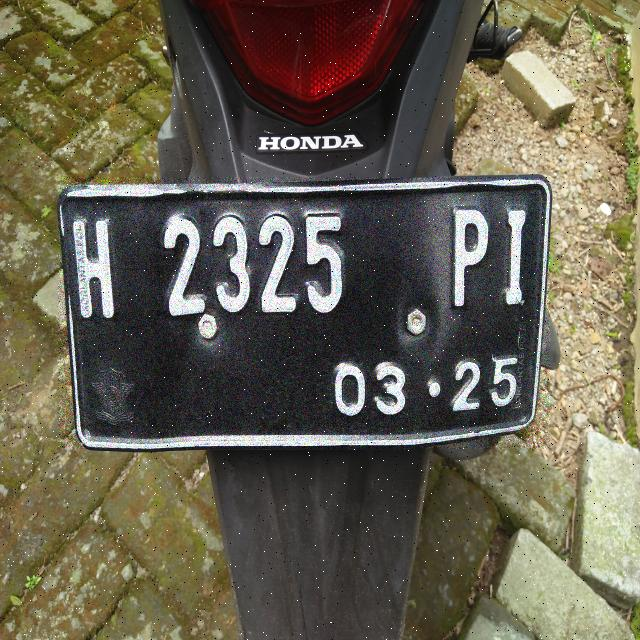plate: (59, 177, 549, 448)
